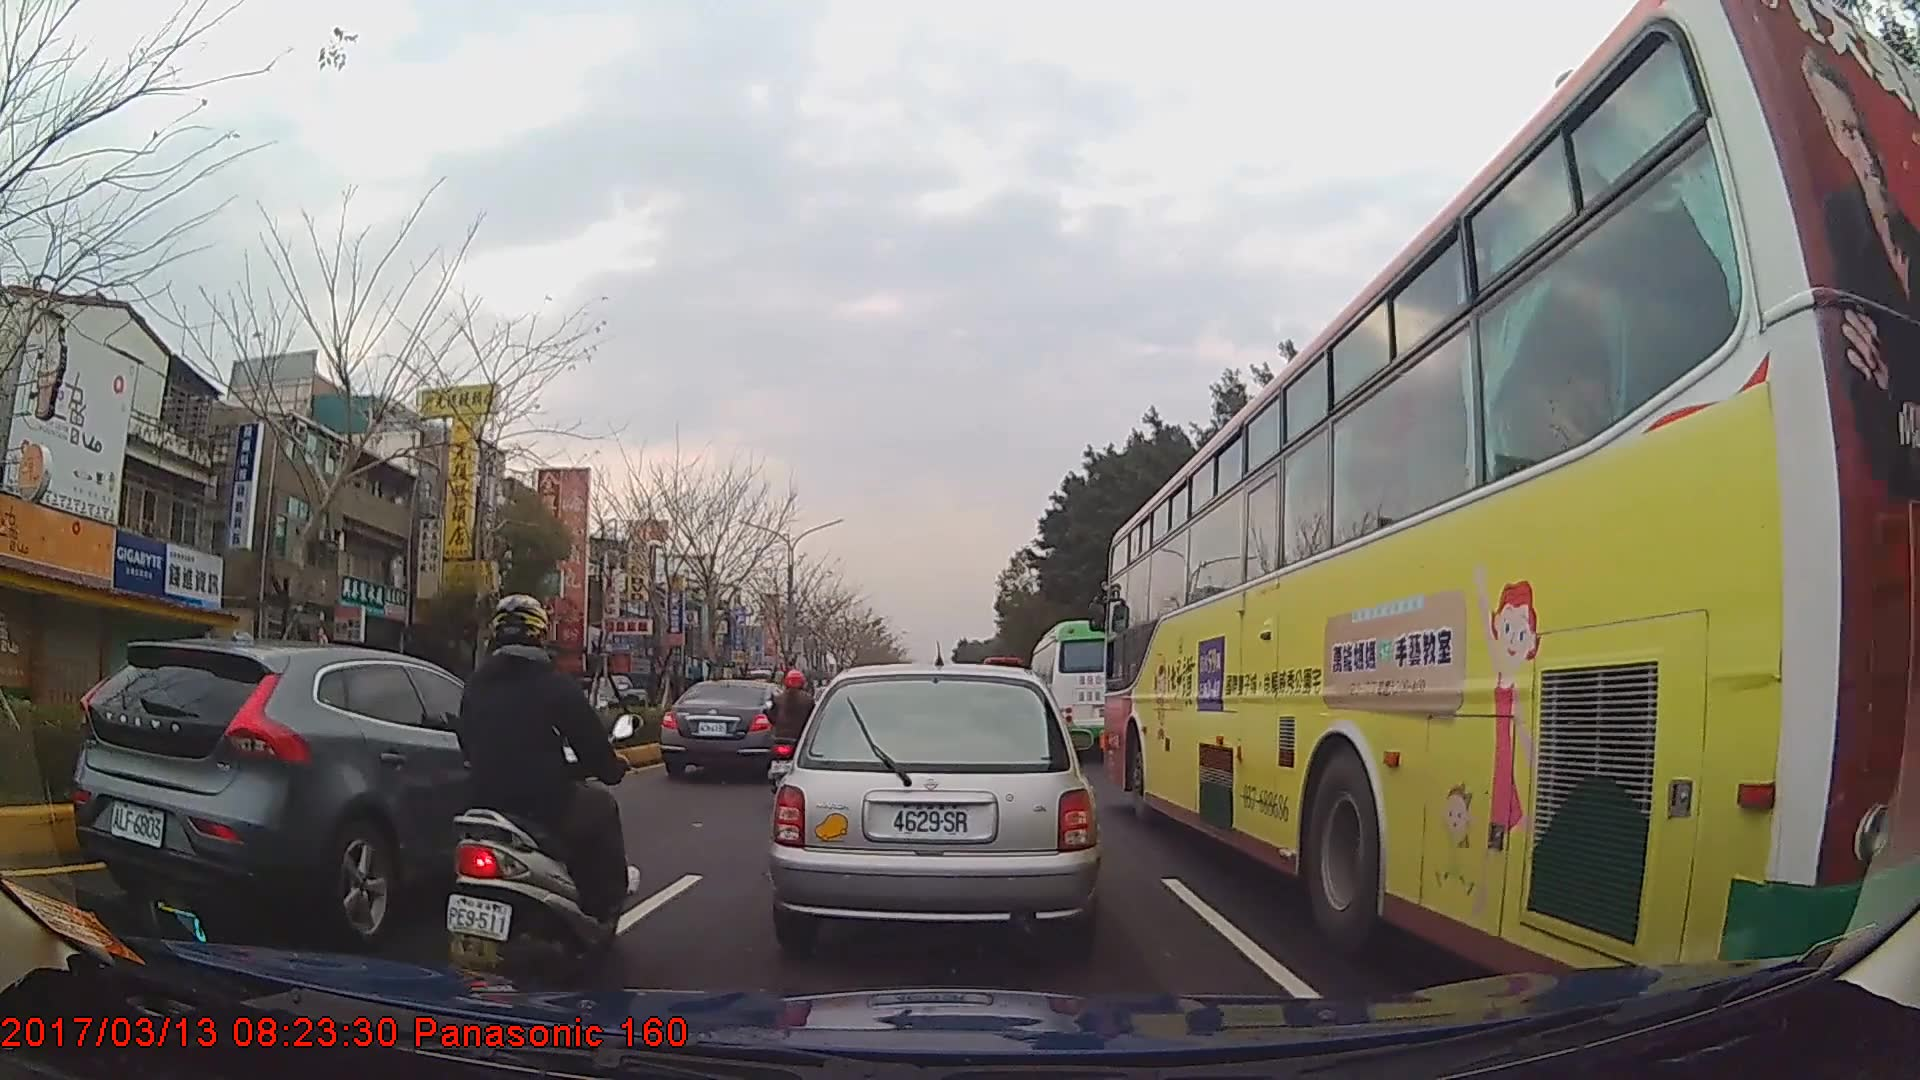rider: (447, 592, 634, 971), (766, 669, 824, 790)
vehicle: (1101, 0, 1920, 1012), (71, 635, 575, 934), (771, 660, 1101, 952), (659, 675, 801, 782), (1025, 618, 1131, 753), (552, 673, 647, 732)
